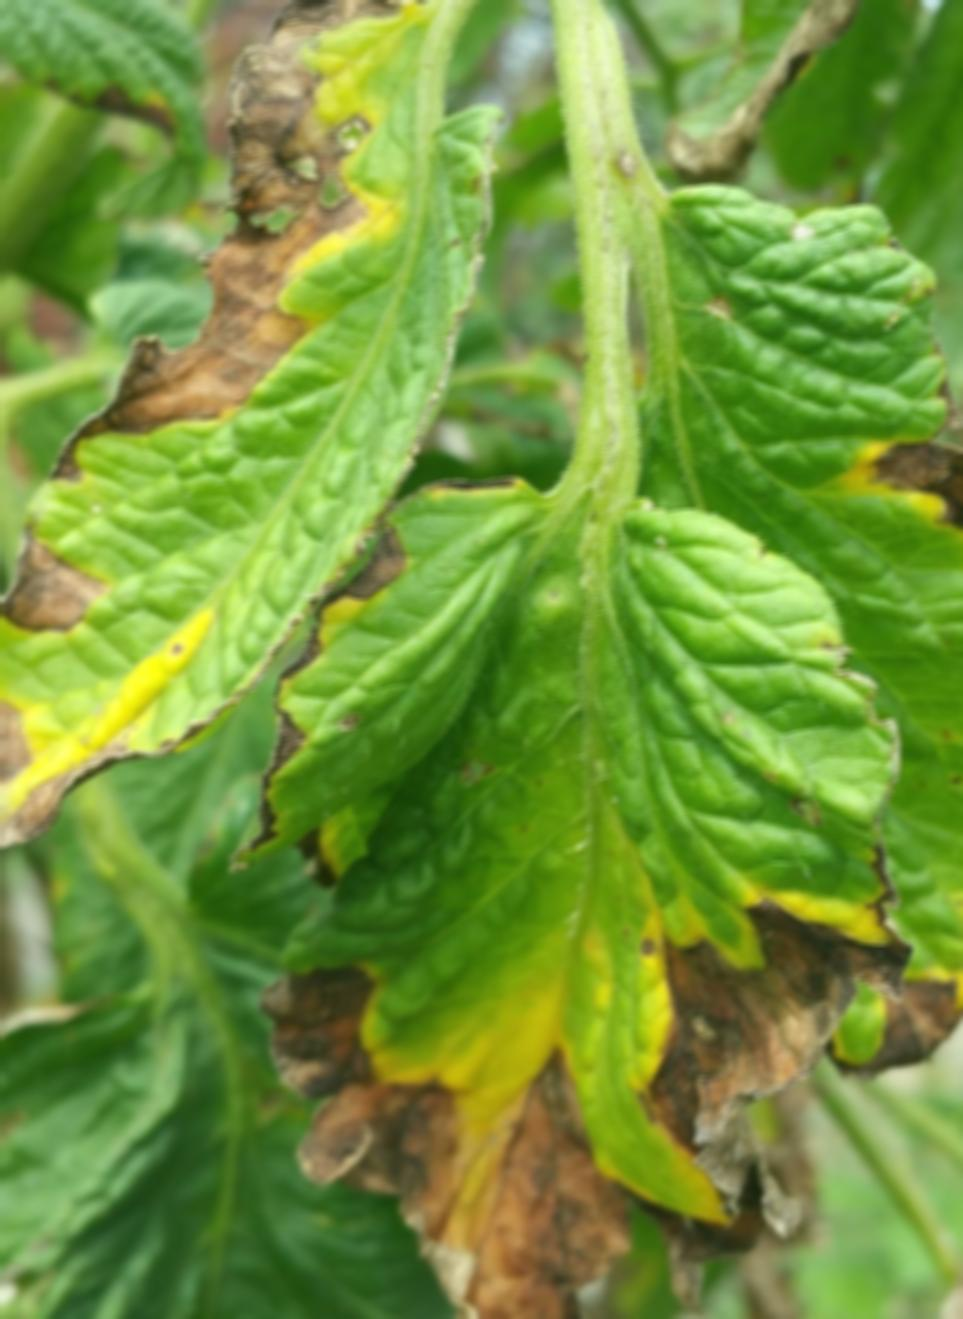Tomato leaf bacterial spot: (270, 435, 910, 1319), (0, 0, 497, 895), (586, 162, 963, 1095)
